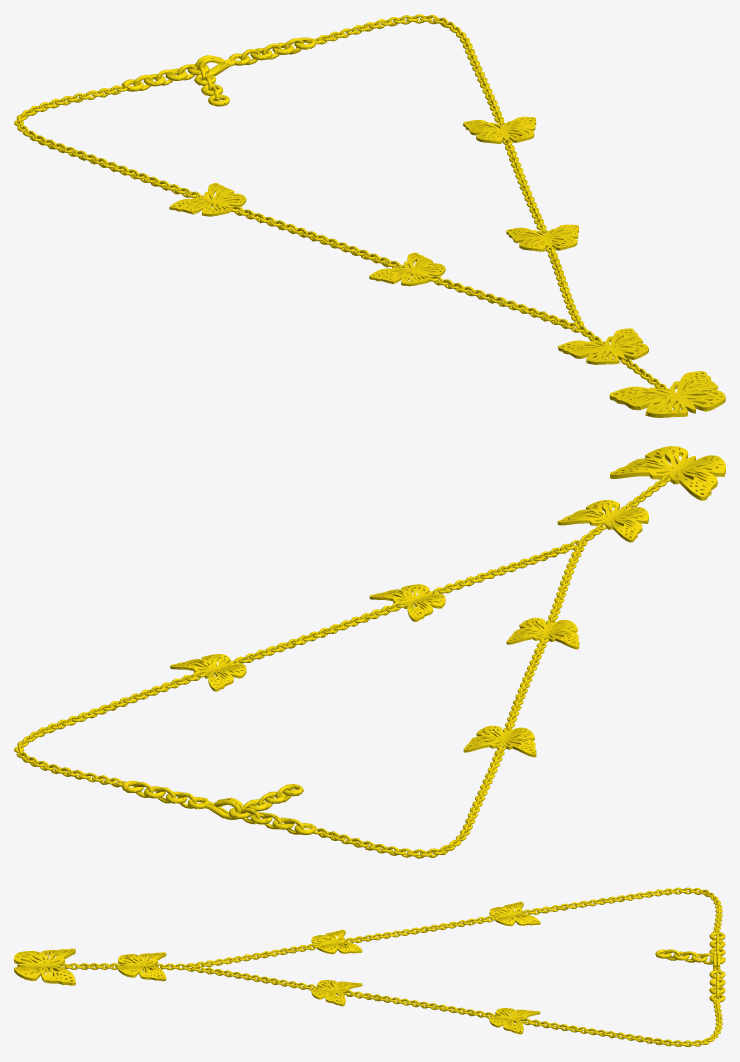
Rendered from GN-SAD0003028.glb.
3 renders of one model, top to bottom at view 1: azimuth 30°, elevation 25°; view 2: azimuth 150°, elevation 25°; view 3: azimuth 270°, elevation 25°, orthographic. The views are drawn at different scales.
Parts seen in each view (by area): view 1: highPolyMesh, lowPolyMesh; view 2: highPolyMesh, lowPolyMesh; view 3: highPolyMesh, lowPolyMesh.
Boxes of the visible parts, x1,y1,x2,y2 form: highPolyMesh: (14,14,725,417); lowPolyMesh: (14,14,725,417); highPolyMesh: (14,446,725,858); lowPolyMesh: (14,446,724,858); highPolyMesh: (14,887,725,1047); lowPolyMesh: (14,887,725,1047).
Size of the model in its own units: 0.0792 by 0.00339 by 0.1528.
